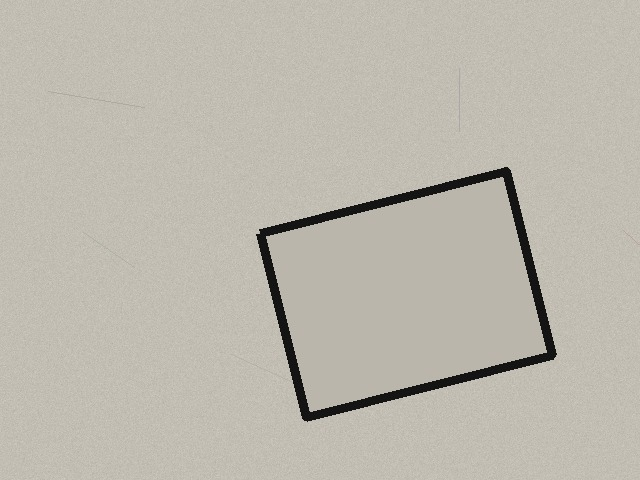parking_area: (260, 171, 552, 417)
